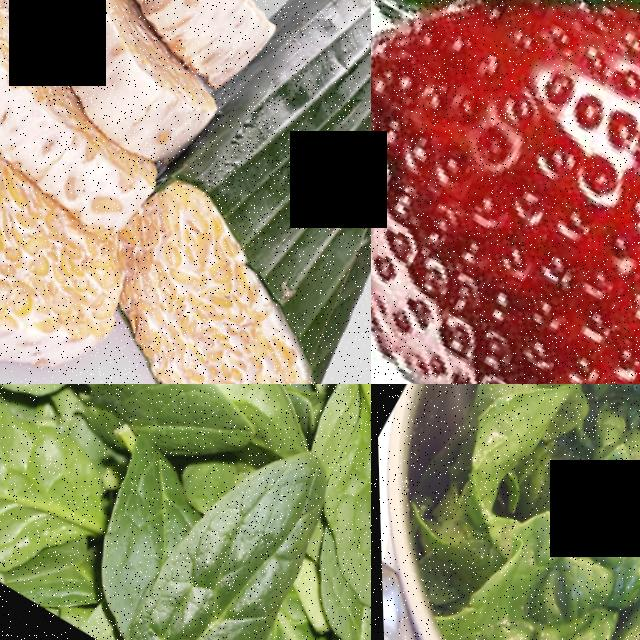spinach: (103, 402, 351, 640), (420, 410, 640, 640), (0, 384, 115, 607), (278, 384, 371, 640)
strawberry: (371, 0, 640, 384)
tempeh: (60, 167, 370, 384), (0, 97, 139, 384), (51, 5, 226, 177), (0, 0, 81, 147)
